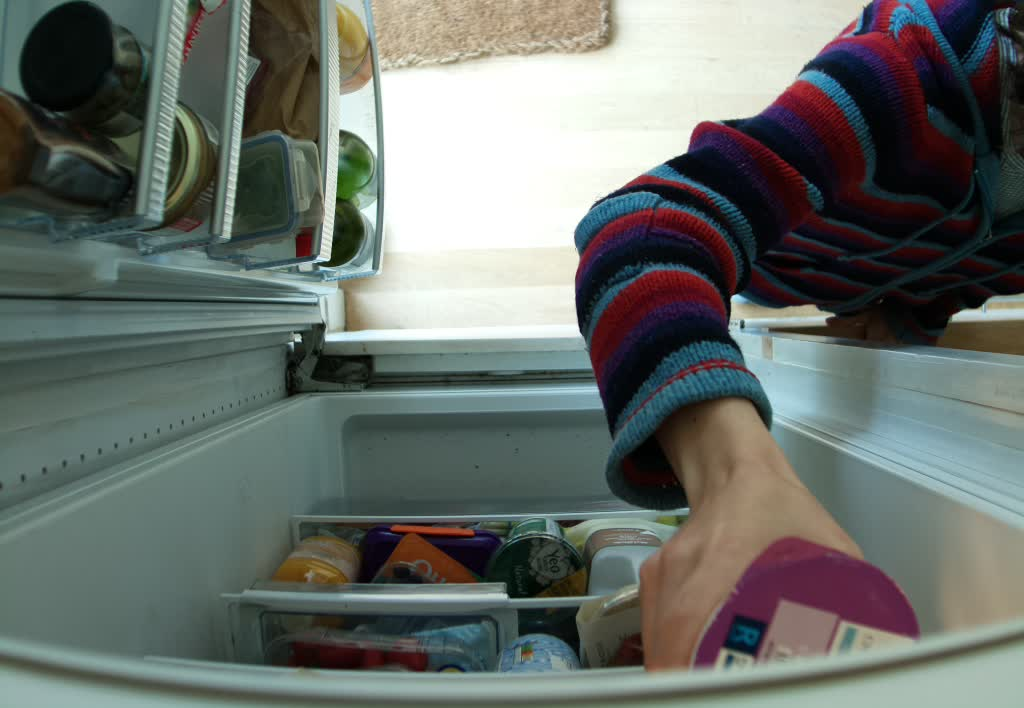cream: (691, 536, 917, 675)
